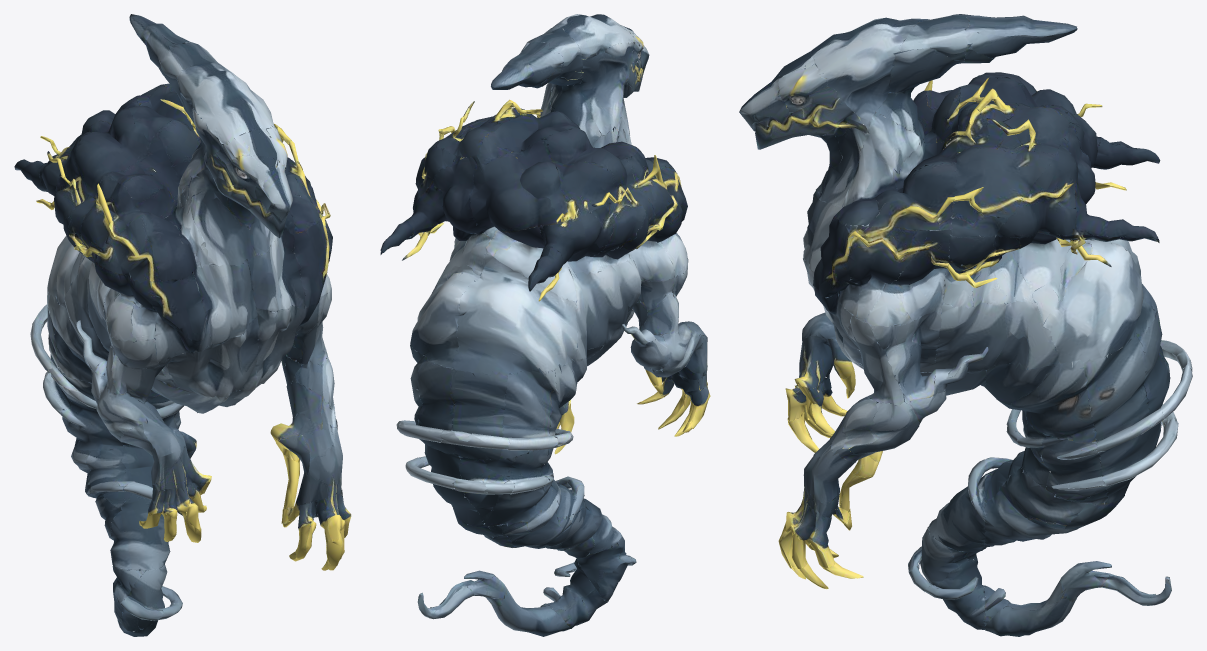
The picture shows the model from 3 angles, left to right: view 1: azimuth 30°, elevation 25°; view 2: azimuth 150°, elevation 25°; view 3: azimuth 270°, elevation 25°; orthographic projection. The views are drawn at different scales.
Parts seen in each view (by area): view 1: Mesh_0; view 2: Mesh_0; view 3: Mesh_0.
Boxes of the visible parts, x1=… form: Mesh_0: x1=14, y1=14, x2=351, y2=636; Mesh_0: x1=380, y1=14, x2=710, y2=636; Mesh_0: x1=739, y1=14, x2=1192, y2=636.
Bounding box in the file's own units: 0.7742 × 1.9 × 1.24.
Materials: 1 (1 with a texture image).
